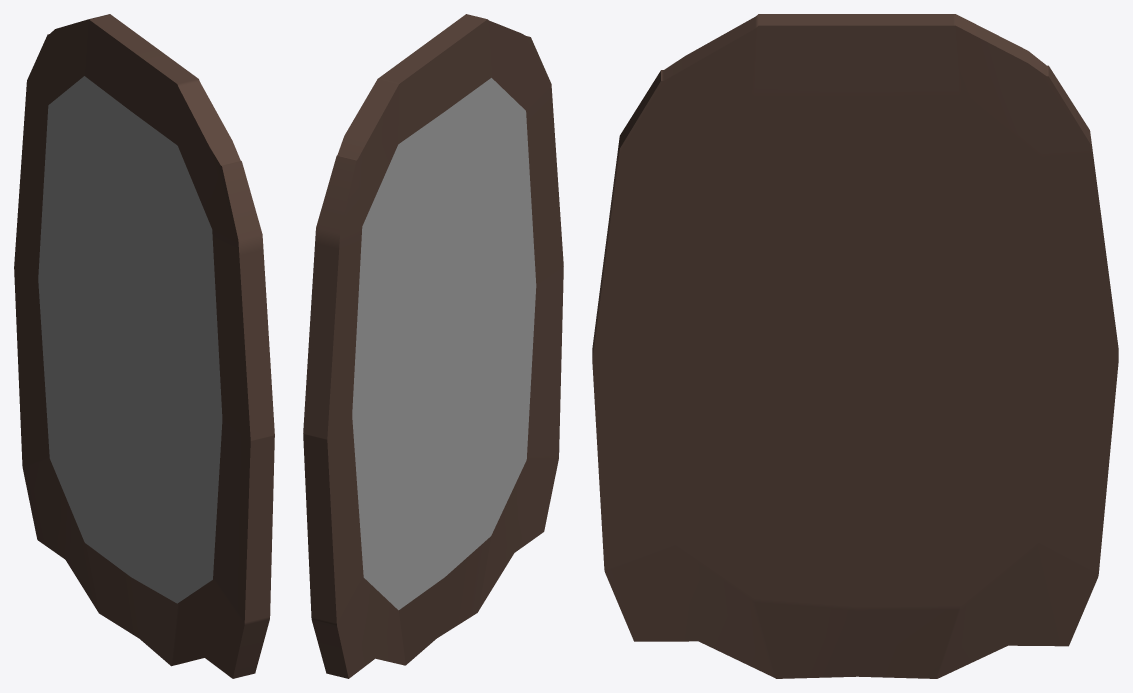
Rendered from mirror.fbx.
3 views of the same model, side by side, from view 1: azimuth 30°, elevation 25°; view 2: azimuth 150°, elevation 25°; view 3: azimuth 270°, elevation 25° (orthographic). The views are drawn at different scales.
Visible parts, largest first — view 1: mirror1, mirror; view 2: mirror1, mirror; view 3: mirror.
Boxes of the visible parts, x1,y1,x2,y2 form: mirror1: (38,76,222,603); mirror: (14,14,274,678); mirror1: (352,78,536,610); mirror: (303,14,563,678); mirror: (592,14,1118,678).
Size of the model in its own units: 1.22 by 26.99 by 19.66.
